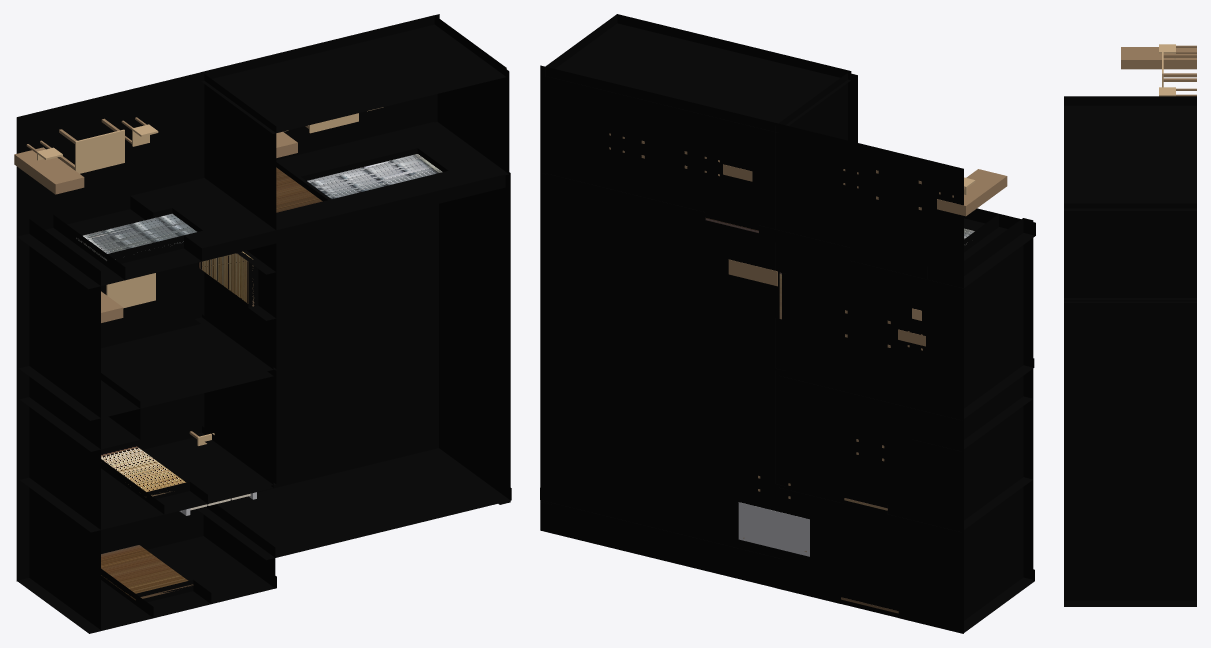
The model's file is 1_interior.gltf.
3 renders of one model, left to right at view 1: azimuth 30°, elevation 25°; view 2: azimuth 150°, elevation 25°; view 3: azimuth 270°, elevation 25°, orthographic. The views are drawn at different scales.
Parts seen in each view (by area): view 1: WallMesh, Floor, DoorMesh, WindowMesh, Furniture_4, Furniture_7, Furniture_12; view 2: Floor, WallMesh, Furniture_0, Furniture_7, Furniture_2; view 3: WallMesh, Furniture_7, Furniture_4, Furniture_5, Furniture_6.
Boxes of the visible parts, <box> form: WallMesh: <box>17,15,511,633</box>; Floor: <box>16,14,439,581</box>; DoorMesh: <box>101,167,322,600</box>; WindowMesh: <box>76,154,442,260</box>; Furniture_4: <box>59,118,124,173</box>; Furniture_7: <box>14,147,84,194</box>; Furniture_12: <box>106,273,155,308</box>; Floor: <box>540,65,963,633</box>; WallMesh: <box>540,14,1035,633</box>; Furniture_0: <box>738,502,809,556</box>; Furniture_7: <box>937,169,1007,216</box>; Furniture_2: <box>728,259,777,286</box>; WallMesh: <box>1064,96,1196,606</box>; Furniture_7: <box>1121,47,1196,69</box>; Furniture_4: <box>1162,51,1196,87</box>; Furniture_5: <box>1159,44,1196,59</box>; Furniture_6: <box>1159,87,1196,96</box>.
Bounding box in the file's own units: 9.56 × 9.97 × 2.8.
Materials: 20 (4 with a texture image).
